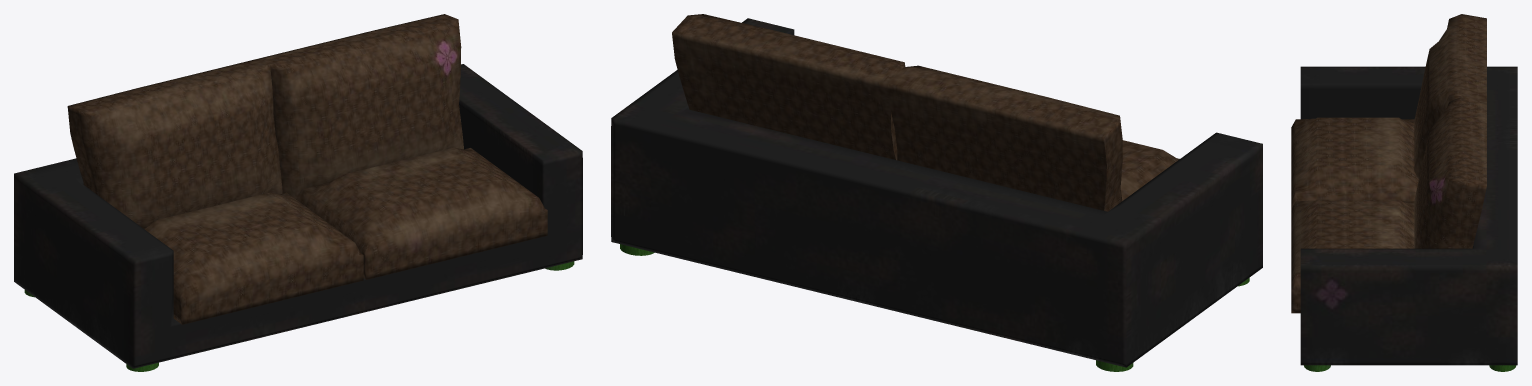
Rendered from sofa.glb.
The picture shows the model from 3 angles, left to right: view 1: azimuth 30°, elevation 25°; view 2: azimuth 150°, elevation 25°; view 3: azimuth 270°, elevation 25°; orthographic projection. The views are drawn at different scales.
Visible parts, largest first — view 1: sofa_edge, polySurface3, polySurface2, cushion_lef1, cushion_lef; view 2: sofa_edge, polySurface2, polySurface3, cushion_lef; view 3: sofa_edge, cushion_lef, polySurface3, cushion_lef1, polySurface2.
Boxes of the visible parts, left/top/right/bottom form: sofa_edge: left=14, top=64, right=582, bottom=368; polySurface3: left=256, top=14, right=463, bottom=199; polySurface2: left=67, top=59, right=282, bottom=227; cushion_lef1: left=296, top=147, right=547, bottom=279; cushion_lef: left=143, top=192, right=363, bottom=324; sofa_edge: left=611, top=18, right=1262, bottom=367; polySurface2: left=888, top=65, right=1122, bottom=211; polySurface3: left=672, top=14, right=905, bottom=160; cushion_lef: left=1120, top=140, right=1179, bottom=200; sofa_edge: left=1300, top=66, right=1517, bottom=365; cushion_lef: left=1291, top=117, right=1418, bottom=208; polySurface3: left=1414, top=97, right=1486, bottom=248; cushion_lef1: left=1291, top=199, right=1414, bottom=313; polySurface2: left=1414, top=14, right=1486, bottom=179.
Bounding box in the file's own units: 2 × 0.8181 × 0.9575.
Materials: 1 (1 with a texture image).
